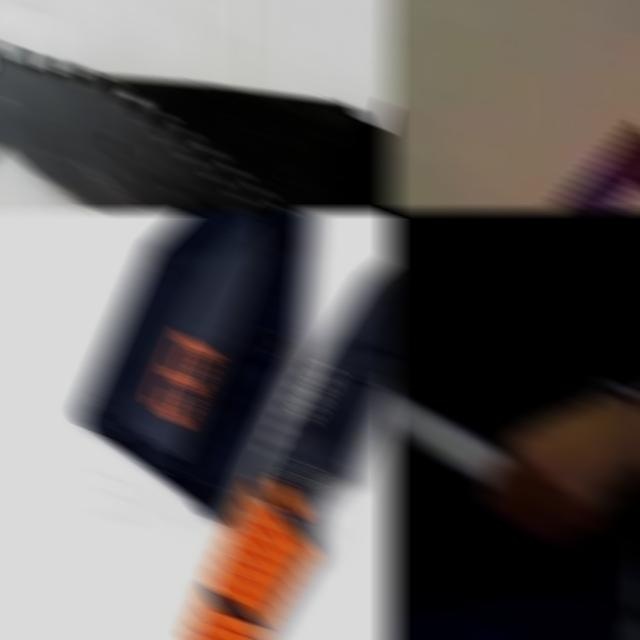Knife: (184, 260, 395, 640), (0, 43, 273, 212), (385, 377, 507, 495)
Knife_Handle: (385, 368, 640, 545), (442, 0, 640, 212)
